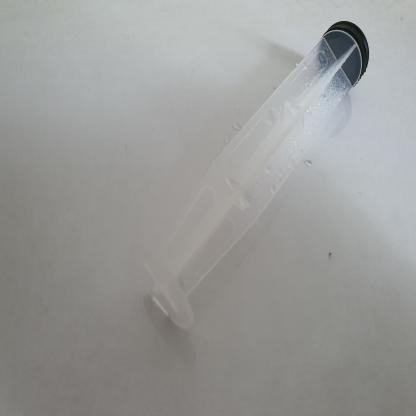wet: (140, 24, 368, 324)
